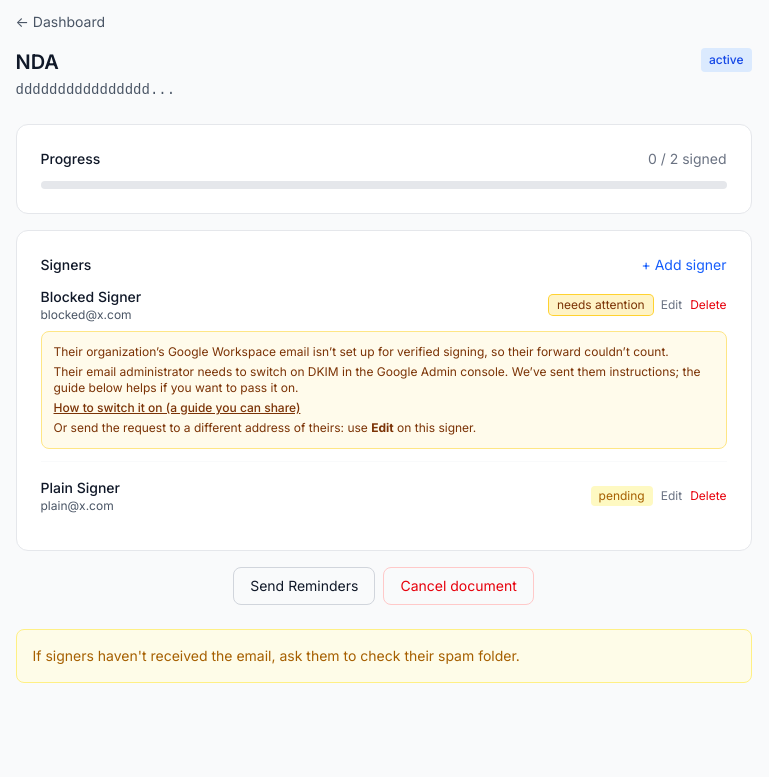
Test: EnvelopeDetailPage — every control reaches 44x44 on a phone, in every state (UX-039..041, FC32.1) › S3 the edit form on the needs-attention signer, on-behalf ticked: its inputs, the checkbox label, Save & resend, Cancel
Expected: the text "needs attention" is shown, [549,295,653,315]
Click the button "Edit" next to "needs attention": (671, 305) [661,297,682,313]
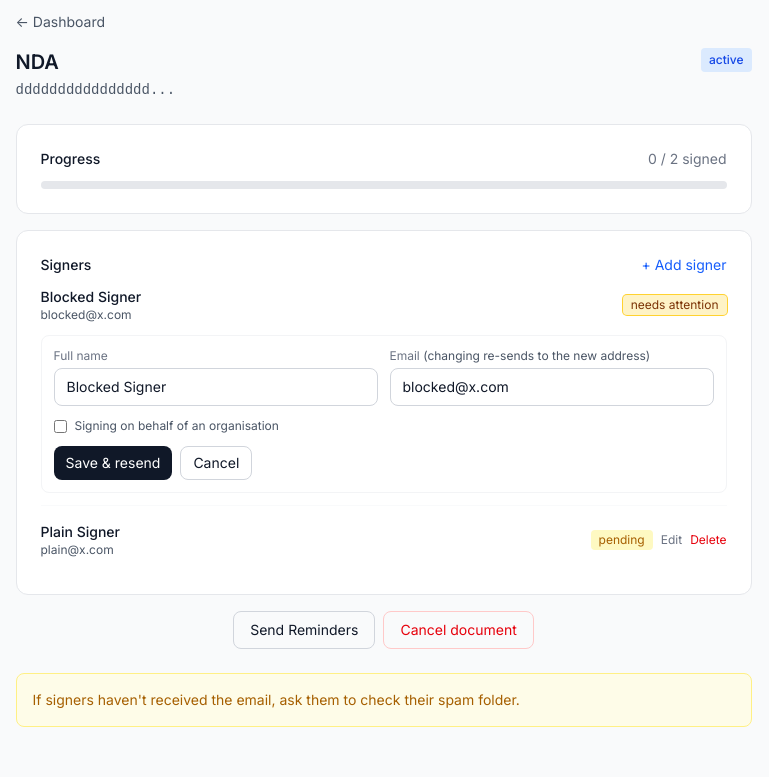
Click the checkbox: (60, 426) [54,420,66,432]
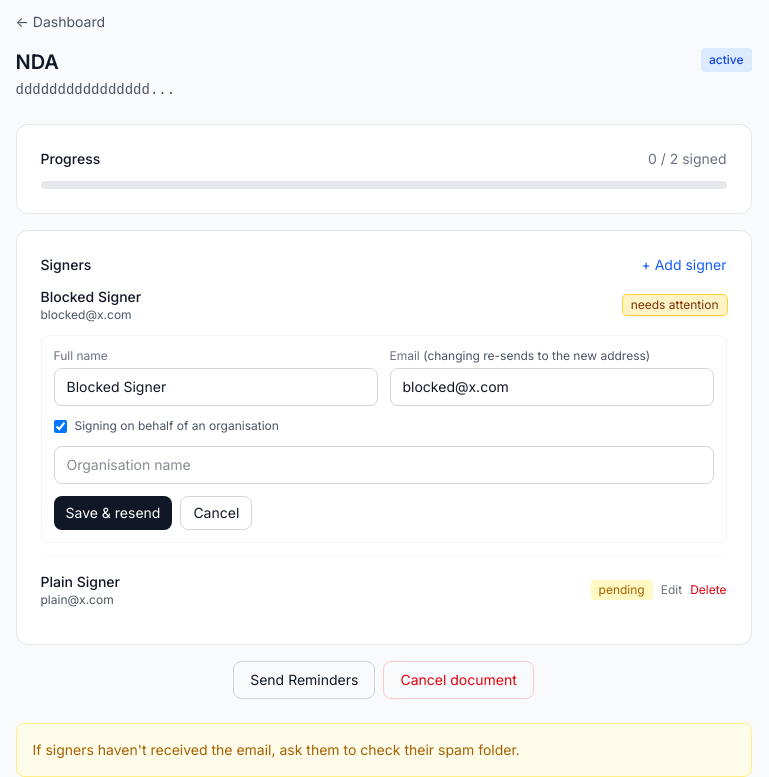
Expected: the button "Save & resend" is shown, [54,496,172,530]
Expected: the button "Cancel" is shown, [180,496,252,530]
Expected: the field with placeholder "Organisation name" is shown, [54,446,714,484]
